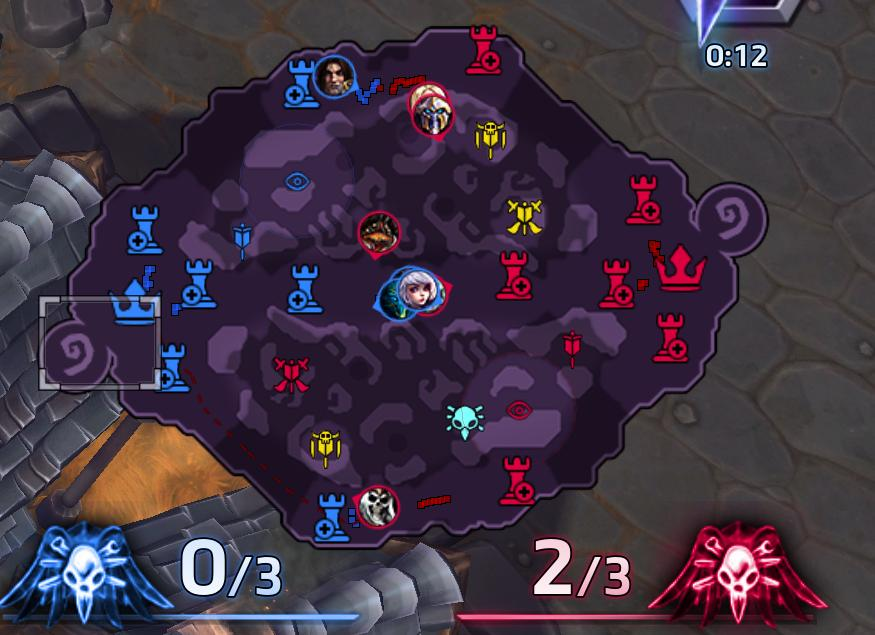blue nexus: (108, 275, 160, 326)
blue player: (310, 54, 357, 102), (372, 278, 418, 325), (394, 268, 440, 315)
blue tower: (173, 257, 219, 315), (285, 263, 324, 316), (126, 203, 164, 256), (284, 57, 322, 110), (313, 492, 352, 541), (156, 341, 192, 392)
red nexus: (650, 242, 708, 293)
red player: (356, 209, 402, 259), (352, 485, 399, 529), (406, 80, 448, 124), (413, 95, 455, 139)
red tower: (624, 171, 662, 226), (597, 257, 635, 310), (651, 312, 689, 364), (496, 249, 532, 301), (498, 455, 536, 504), (464, 24, 500, 75)
